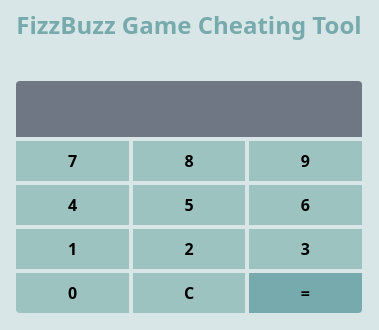
Test case: FizzBuzz Game Cheating tool › When the 0-9 keys are pressed, the corresponding key is displayed in the output area, with each subsequent key press appearing after the previously entered one.
Click the button "8" at point(189, 161), box [133,141,245,181]
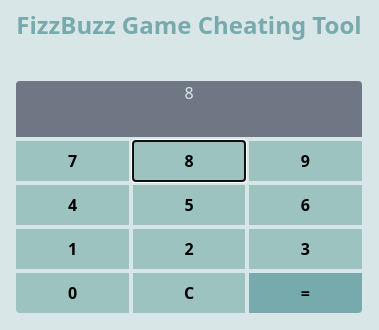
Click the button "9" at point(305, 161), box [249,141,362,181]
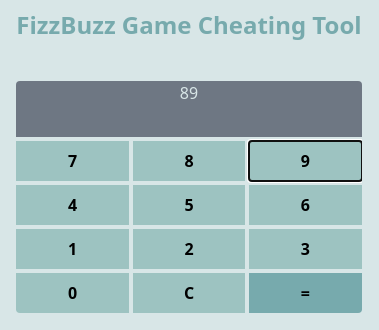
Click the button "7" at point(73, 161), box [16,141,129,181]
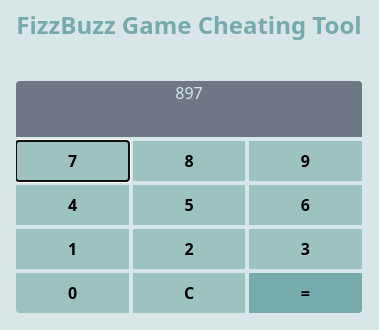
Click the button "9" at point(305, 161), box [249,141,362,181]
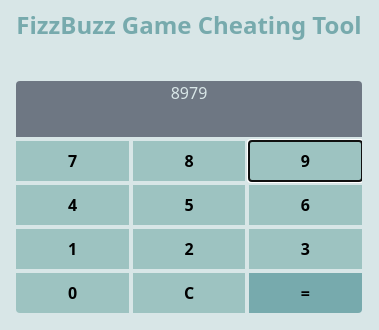
Click the button "0" at point(73, 293), box [16,273,129,313]
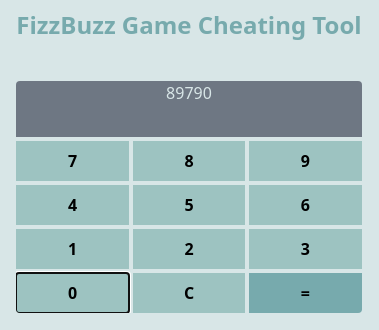
Expected: the text with test id "show-result" reads "89790", [166,82,212,104]
